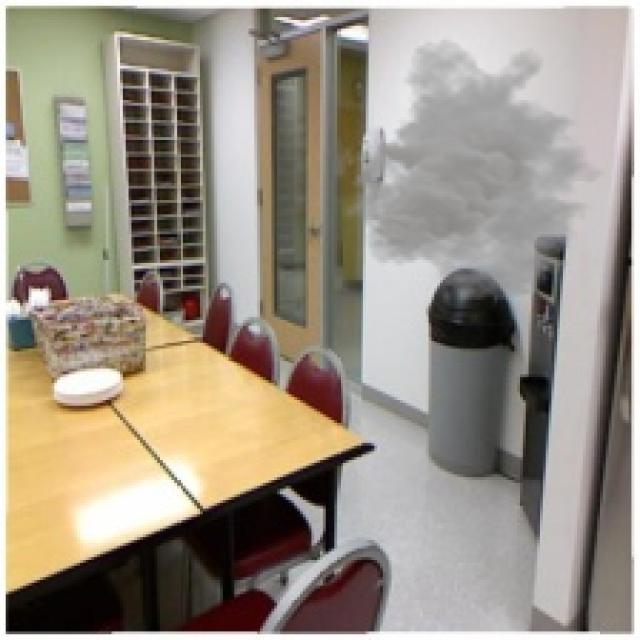smoke: (340, 37, 614, 303)
